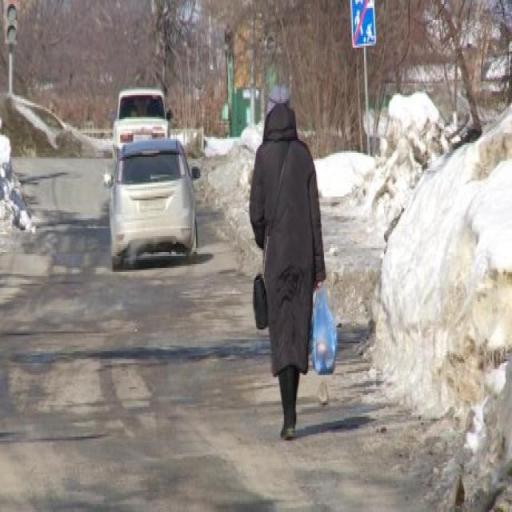person: (251, 87, 328, 446)
